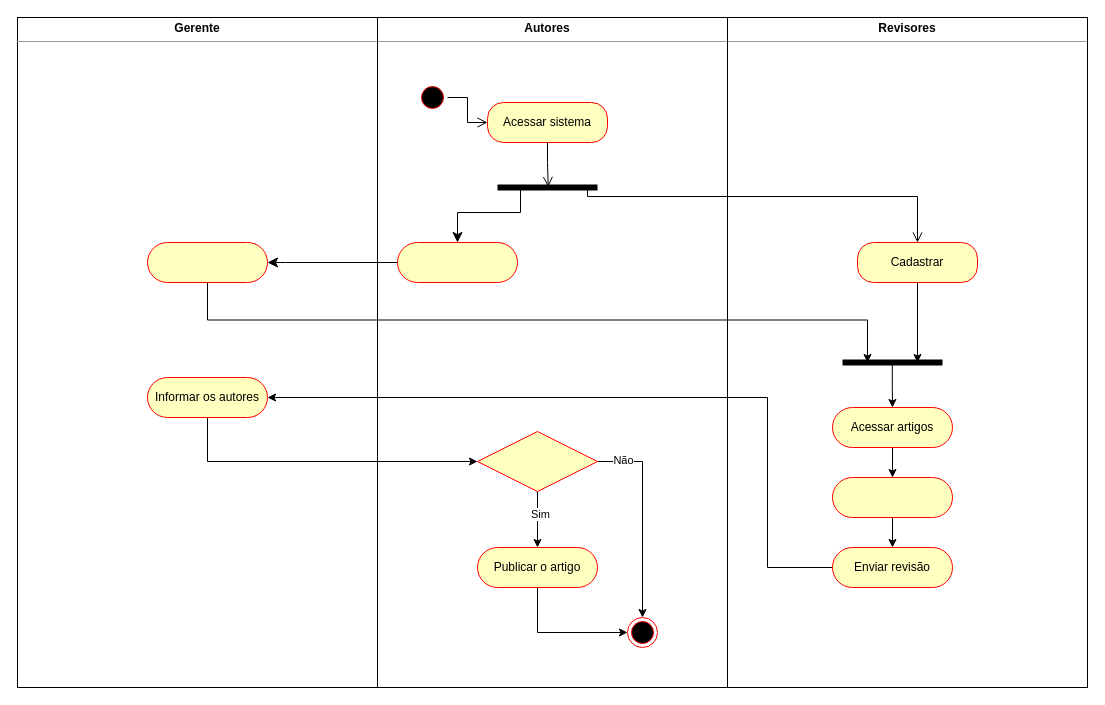
This 1105x705 diagram has some shape labels left out. The shapes that lost their labels are listed below. From the top down, each one's centre as x and y in pixels, then its label:
(207,262): Distribuir artigo para revisores
(457,262): Enviar artigo para o gerente
(537,461): Artigo aceito?
(892,497): Revisar Artigos
